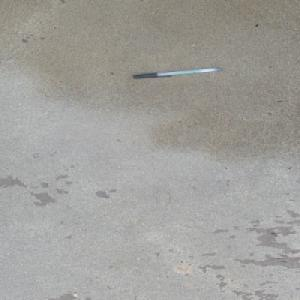Pen: (131, 66, 222, 79)
